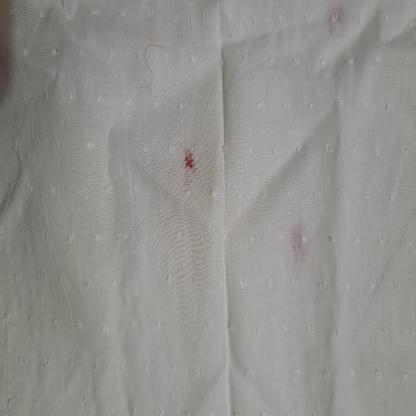spot: (291, 222, 309, 277), (326, 0, 350, 36), (178, 144, 197, 177)
